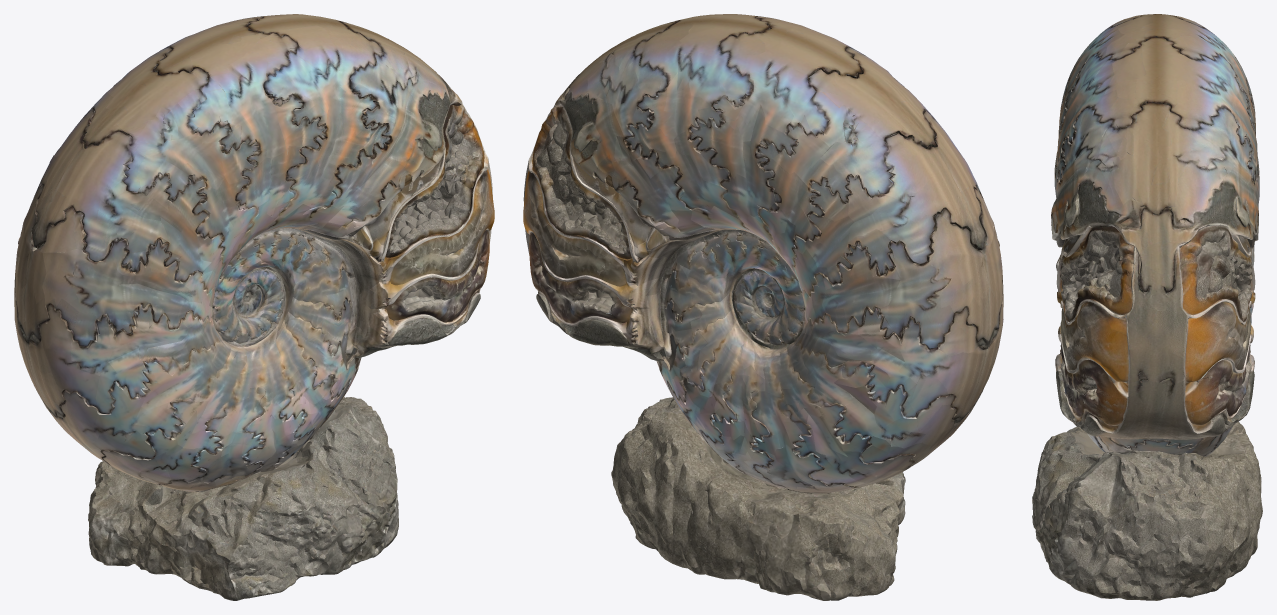
Rendered from ammonite.glb.
3 views of the same model, side by side, from view 1: azimuth 30°, elevation 25°; view 2: azimuth 150°, elevation 25°; view 3: azimuth 270°, elevation 25° (orthographic).
Visible parts, largest first — view 1: Mesh_0; view 2: Mesh_0; view 3: Mesh_0.
Boxes of the visible parts, left/top/right/bottom form: Mesh_0: left=14, top=14, right=494, bottom=600; Mesh_0: left=523, top=14, right=1003, bottom=600; Mesh_0: left=1032, top=14, right=1262, bottom=600.
Size of the model in its own units: 1.76 by 1.9 by 0.7841.
1 material, 1 textured.
